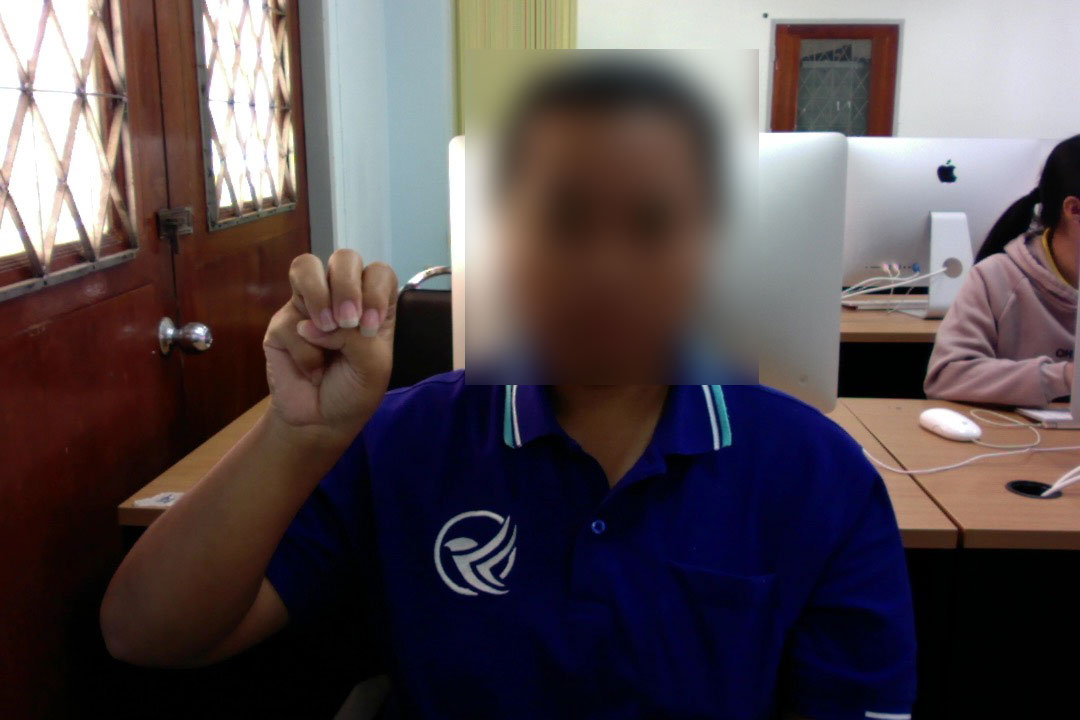mor: (258, 242, 404, 444)
